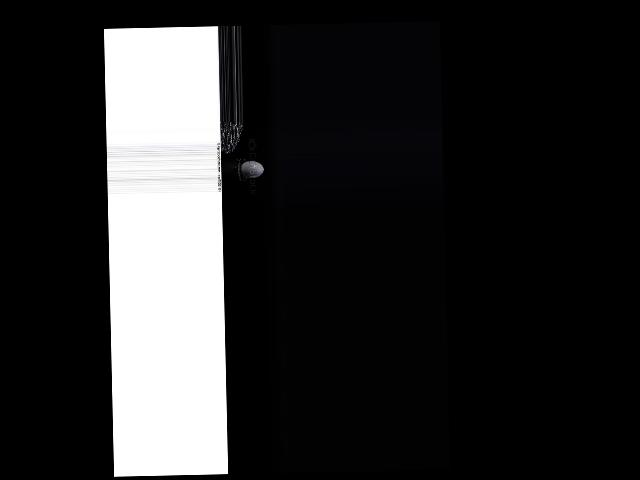egg: (239, 160, 263, 178)
